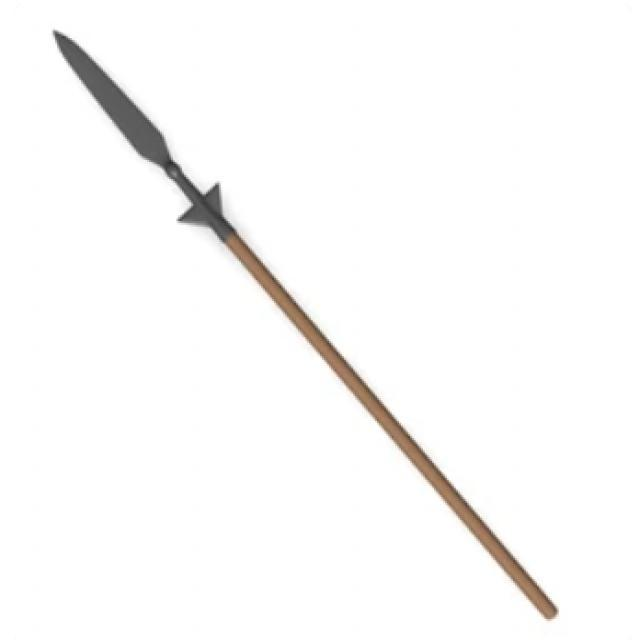spear: (30, 14, 572, 628)
